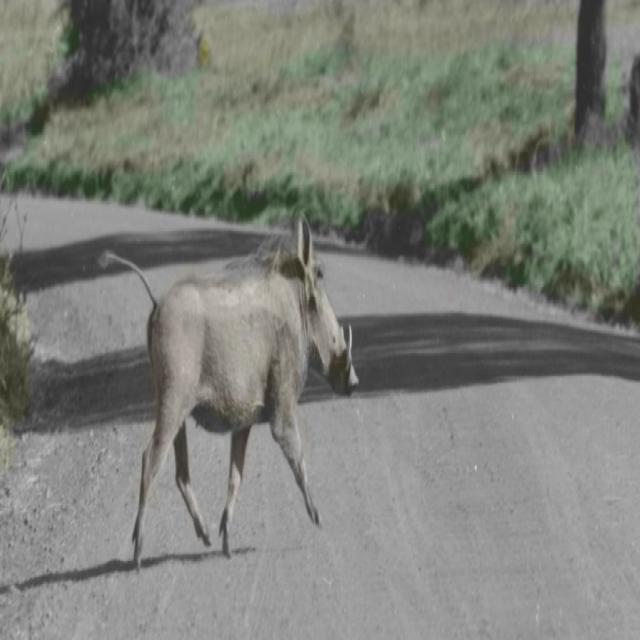Pig: (95, 209, 356, 572)
